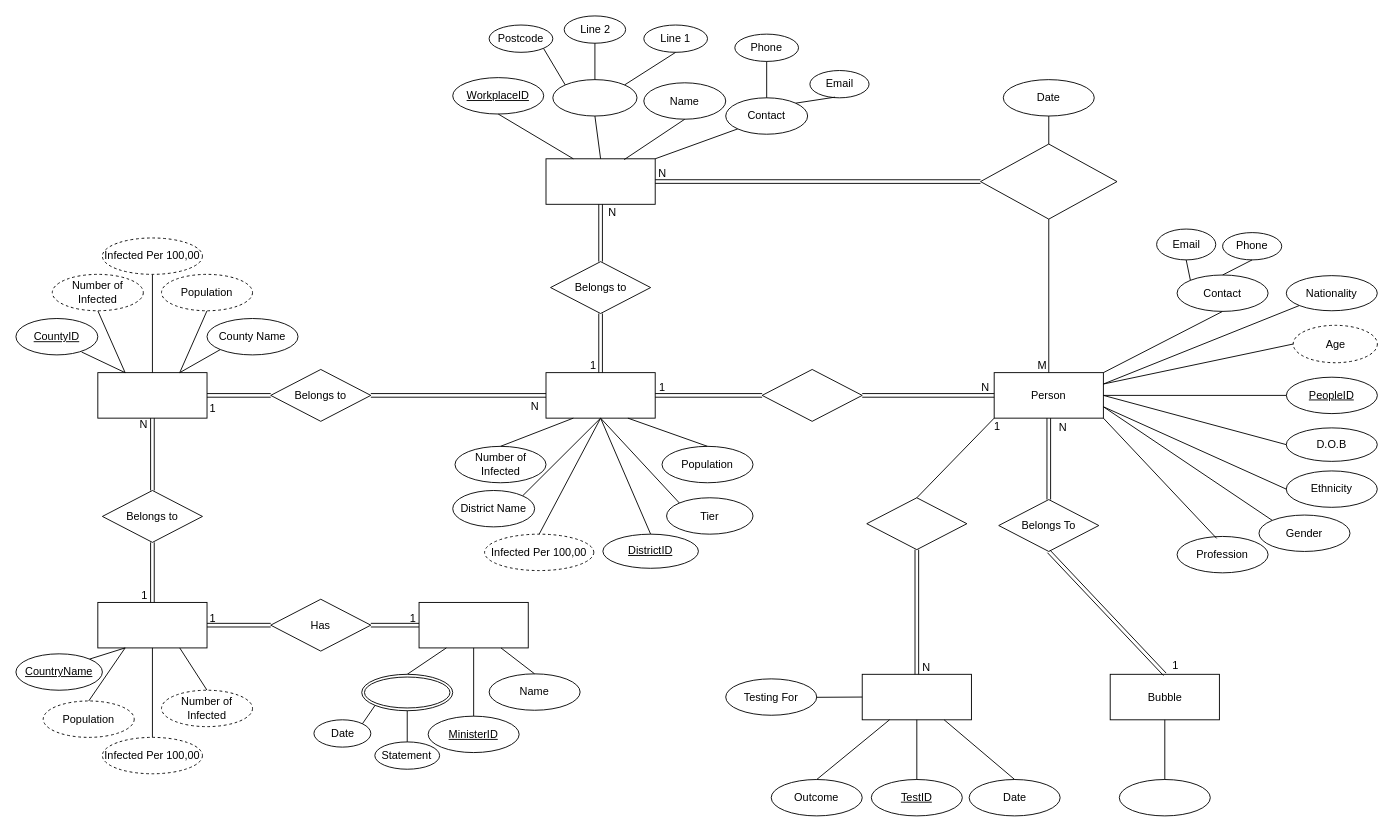
The diagram is 1394 pixels wide and 833 high, and some of its shapes have lost their labels. The centre of each missing label's shape, as x and y in pixels:
"Address" belongs at (594,97).
"BubbleID" belongs at (1164,797).
"Country" belongs at (152,625).
"County" belongs at (152,395).
"District" belongs at (600,395).
"Minister" belongs at (473,625).
"Place" belongs at (600,181).
"Resides in" belongs at (811,395).
"Statements" belongs at (407,692).
"Takes" belongs at (916,523).
"Test" belongs at (916,696).
"Trace" belongs at (1048,181).
